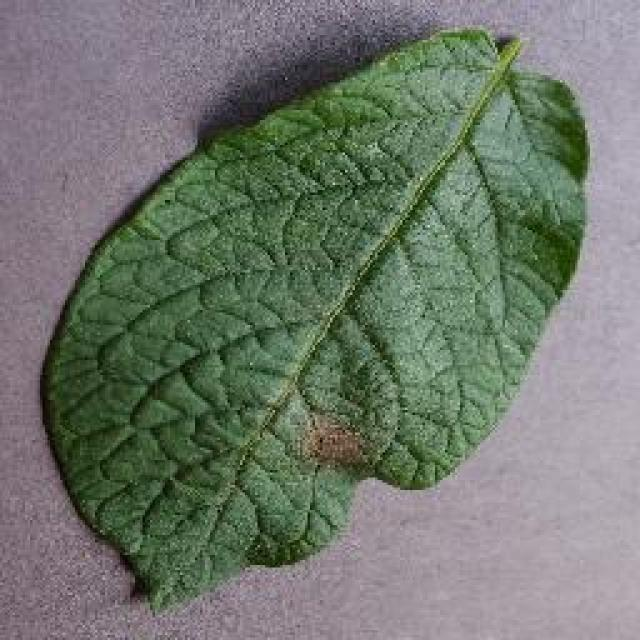Potato___Late_blight: (39, 26, 595, 623)
